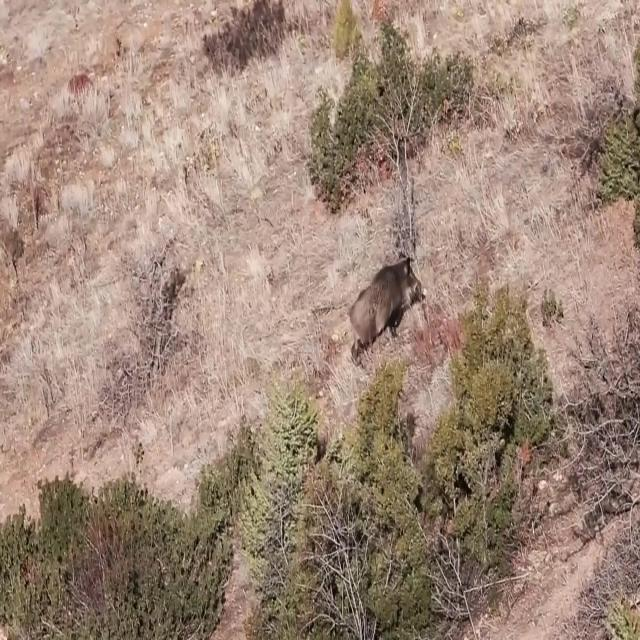pig: (349, 243, 433, 387)
